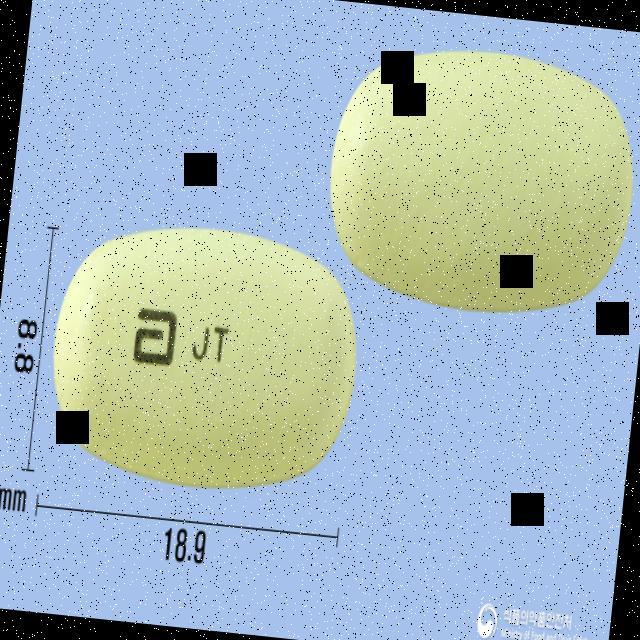Klaricid Film Coated: (39, 211, 371, 505)
